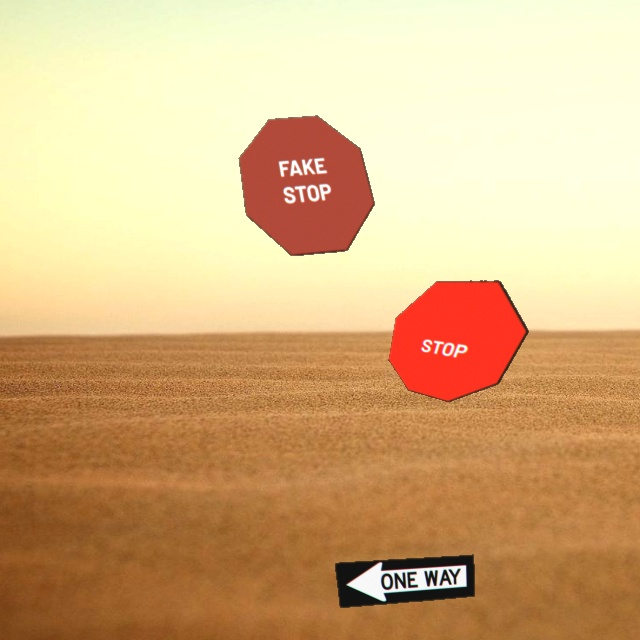FAKE_STOP: (238, 115, 375, 256)
ONE_WAY_ left: (334, 554, 475, 608)
STOP: (388, 280, 529, 402)
